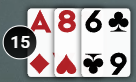6: (81, 7, 107, 35)
8: (54, 8, 80, 35)
a: (28, 9, 53, 34)
